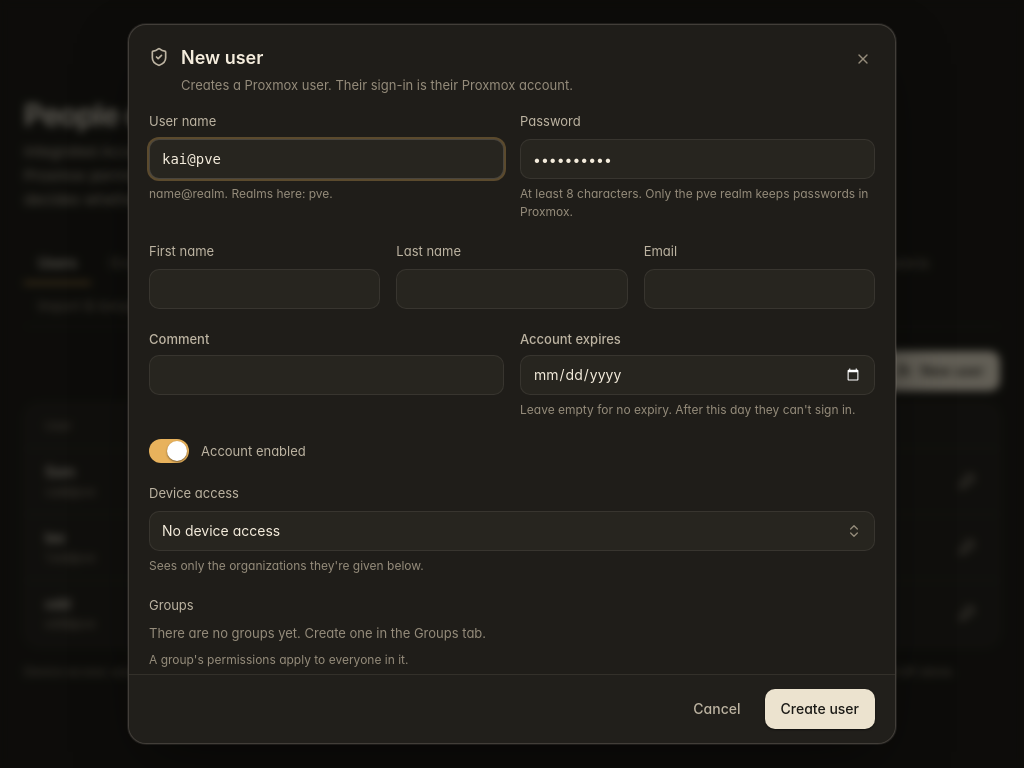
Test case: the live access screen › creates a user with a device role and organization access in one go, and shows what couldn't be done
Earlier steps of the test are not shown.
Select "Viewer" in the dropdown showing "No device access" at (512, 529), box 149,483 -> 875,575
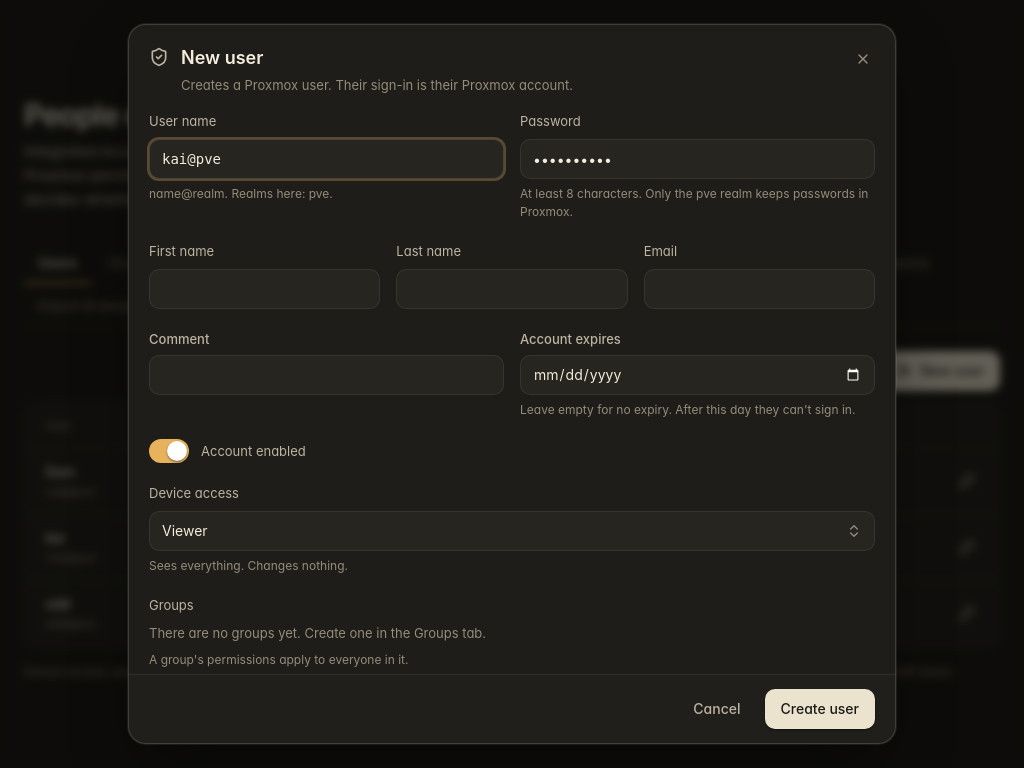
Click the button "Create user" at (820, 709), box 764,689 -> 875,729
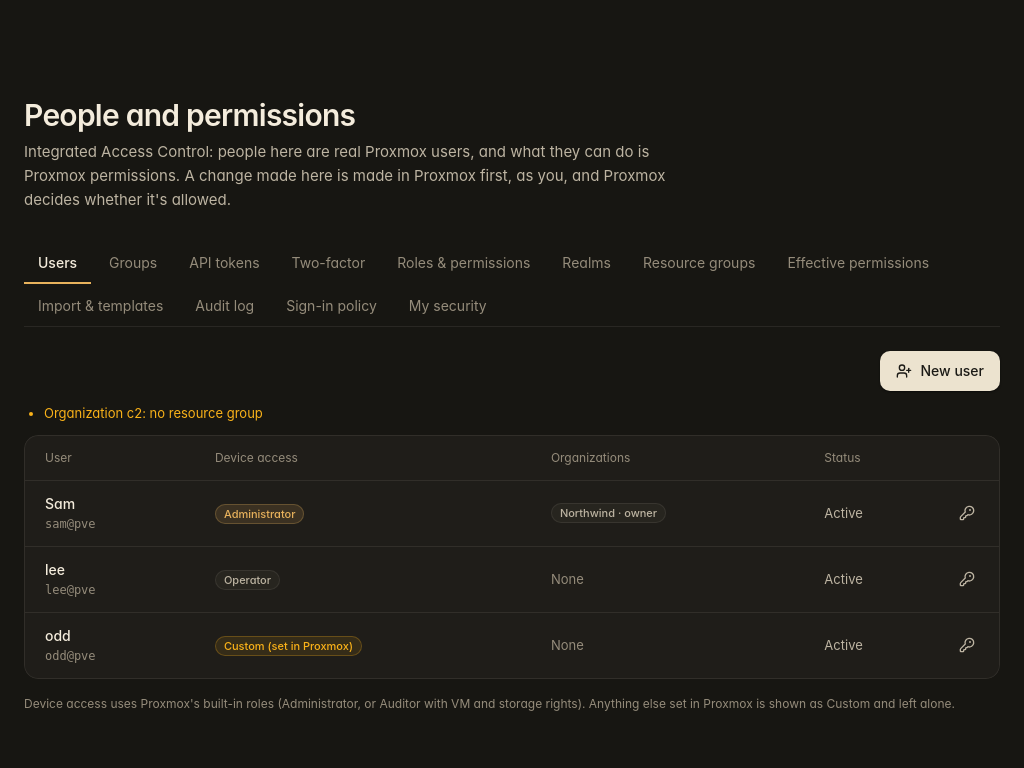
Check: the list item "Organization c2: no resource group" is shown, box 44,405 -> 263,421
